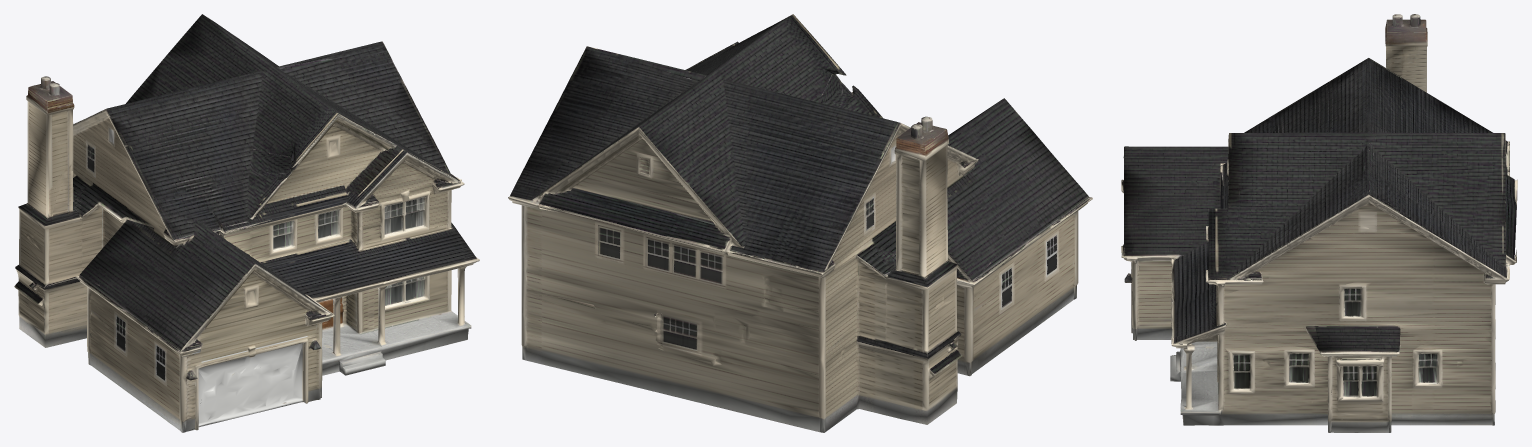
The model's file is building-house-a.glb.
3 renders of one model, left to right at view 1: azimuth 30°, elevation 25°; view 2: azimuth 150°, elevation 25°; view 3: azimuth 270°, elevation 25°, orthographic. The views are drawn at different scales.
Parts seen in each view (by area): view 1: Mesh_0; view 2: Mesh_0; view 3: Mesh_0.
Boxes of the visible parts, left/top/right/bottom form: Mesh_0: left=14, top=14, right=479, bottom=432; Mesh_0: left=508, top=14, right=1092, bottom=432; Mesh_0: left=1121, top=14, right=1517, bottom=432.
Size of the model in its own units: 1.9 by 1.29 by 1.81.
1 material, 1 textured.
